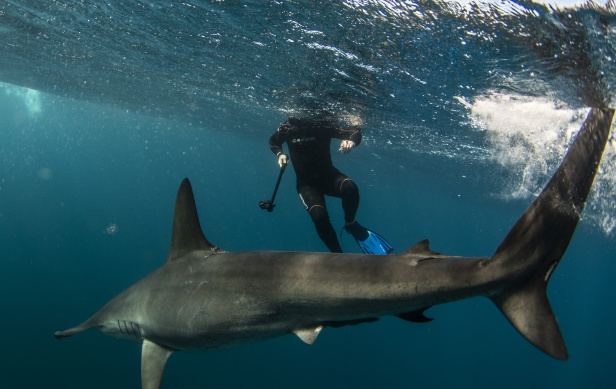Hammer: (39, 138, 612, 389), (334, 264, 460, 332)
